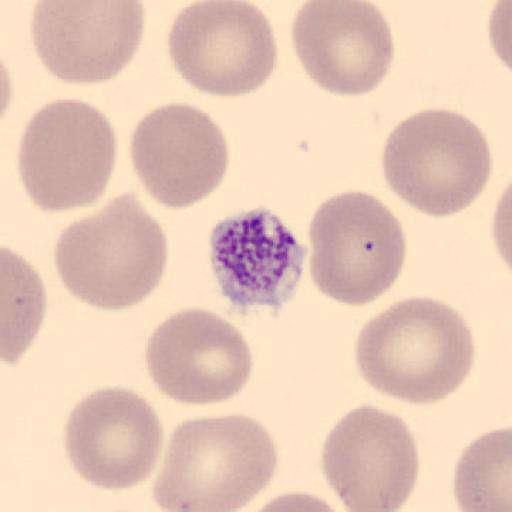Platelet: (205, 206, 310, 309)
RBC: (354, 295, 477, 406), (53, 194, 169, 311), (380, 106, 494, 218), (151, 413, 280, 511), (306, 188, 407, 308), (15, 96, 117, 214), (126, 101, 230, 211), (166, 0, 278, 100), (62, 385, 166, 492), (145, 307, 255, 407), (320, 403, 420, 512), (290, 1, 396, 98), (28, 0, 146, 86), (1, 245, 47, 367), (452, 426, 512, 512), (228, 489, 358, 512), (490, 176, 512, 281), (486, 1, 512, 77), (1, 53, 15, 126)
